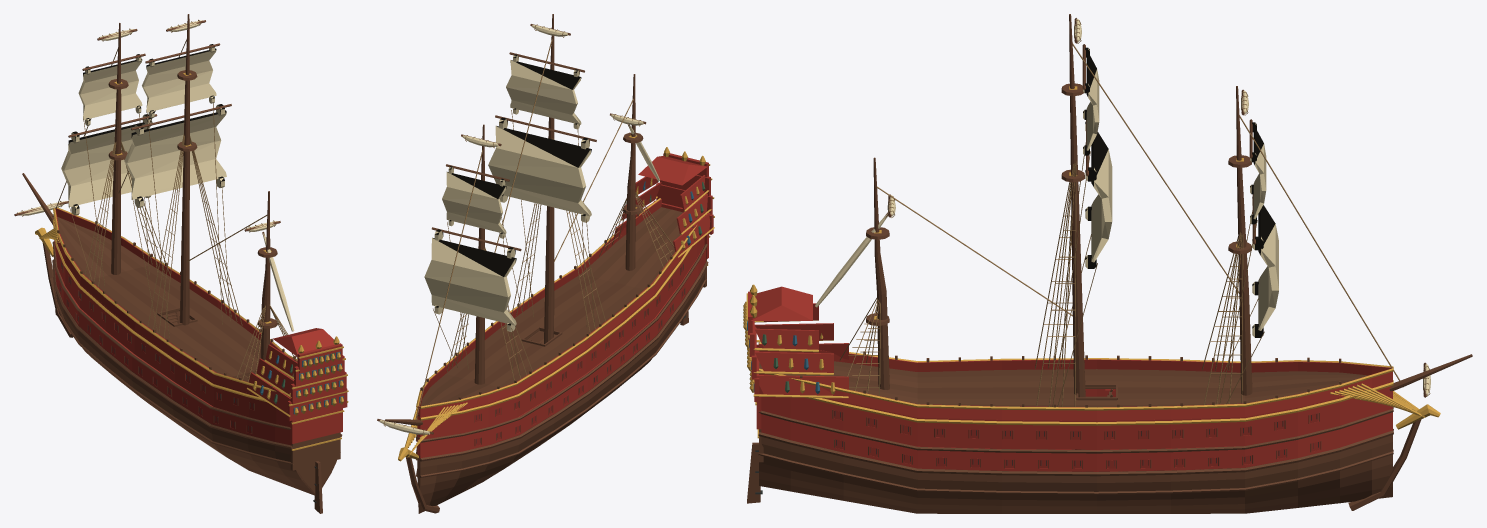
The model's file is vasa.glb.
3 views of the same model, side by side, from view 1: azimuth 30°, elevation 25°; view 2: azimuth 150°, elevation 25°; view 3: azimuth 270°, elevation 25° (orthographic). The views are drawn at different scales.
Visible parts, largest first — view 1: structure, sail_main_course, sail_fore_course, sail_main_topsail, sail_fore_topsail, sail_mizzen_lateen, rudder; view 2: structure, sail_main_course, sail_fore_course, sail_main_topsail, sail_fore_topsail; view 3: structure, sail_main_course, sail_fore_course, sail_main_topsail, sail_fore_topsail.
Part boxes in pixels (x1=…): structure: x1=14, y1=14, x2=348, y2=495; sail_main_course: x1=124, y1=104, x2=226, y2=207; sail_fore_course: x1=61, y1=114, x2=152, y2=215; sail_main_topsail: x1=142, y1=44, x2=216, y2=118; sail_fore_topsail: x1=78, y1=54, x2=142, y2=125; sail_mizzen_lateen: x1=262, y1=232, x2=294, y2=331; rudder: x1=313, y1=461, x2=322, y2=513; structure: x1=377, y1=14, x2=714, y2=513; sail_main_course: x1=488, y1=117, x2=591, y2=222; sail_fore_course: x1=424, y1=229, x2=516, y2=331; sail_main_topsail: x1=506, y1=54, x2=581, y2=129; sail_fore_topsail: x1=442, y1=166, x2=506, y2=238; structure: x1=743, y1=14, x2=1472, y2=513; sail_main_course: x1=1085, y1=121, x2=1112, y2=268; sail_fore_course: x1=1252, y1=197, x2=1278, y2=337; sail_main_topsail: x1=1083, y1=47, x2=1099, y2=155; sail_fore_topsail: x1=1250, y1=122, x2=1266, y2=224.
Size of the model in its own units: 13.25 by 52.08 by 69.04.
